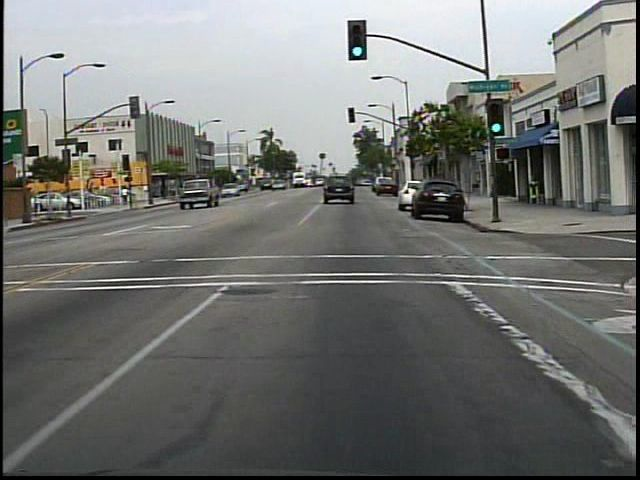person: (121, 183, 129, 208)
